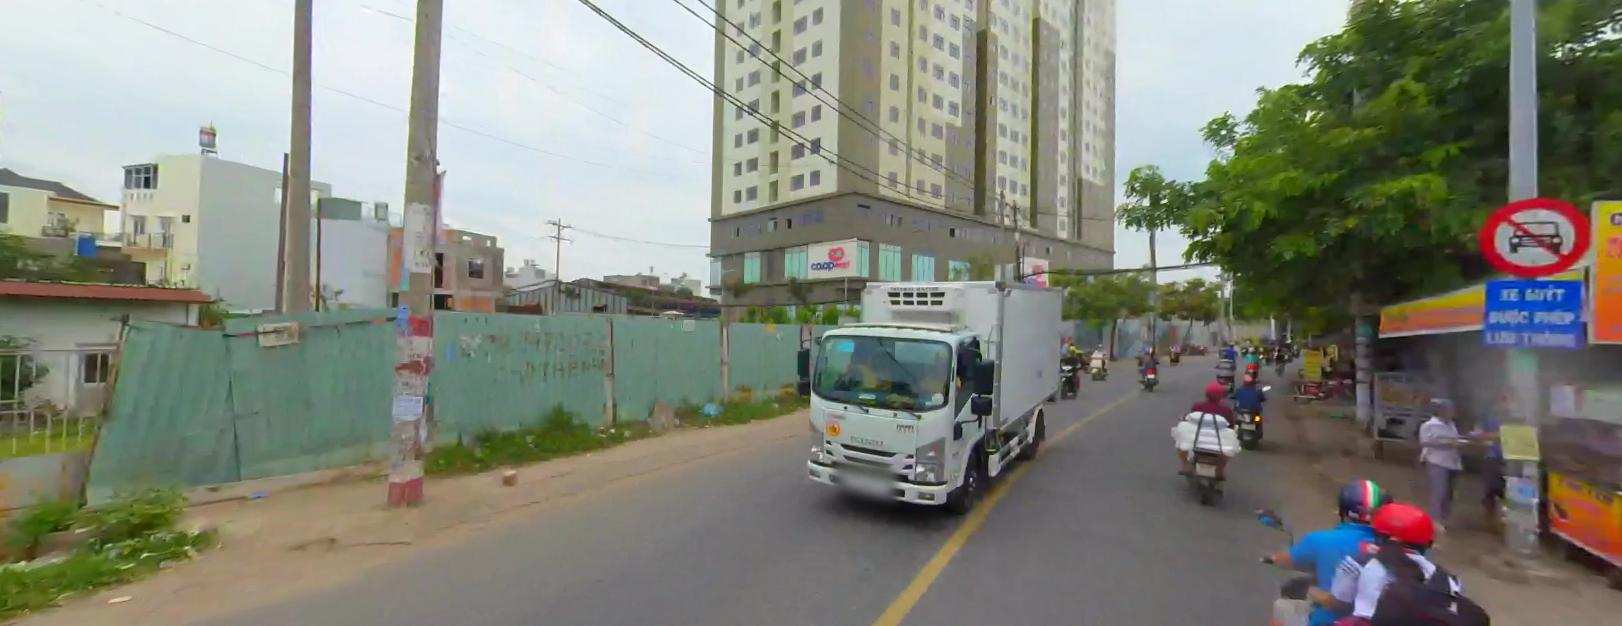Cam con lai: (1479, 190, 1591, 275)
